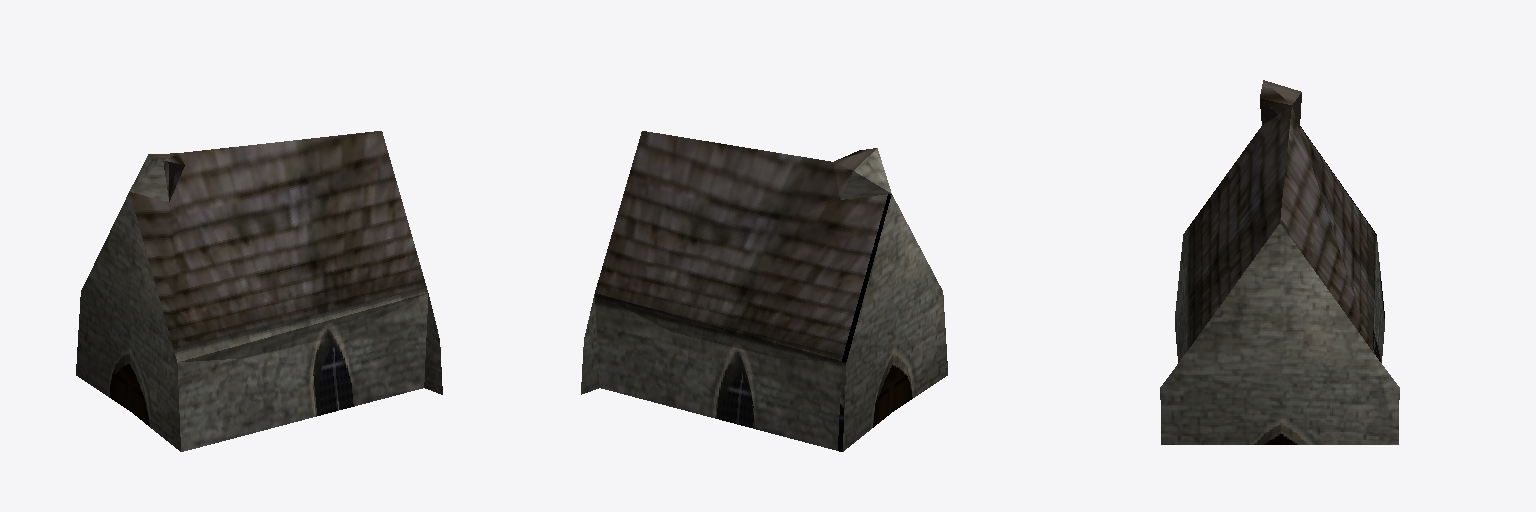
The picture shows the model from 3 angles: view 1: azimuth 30°, elevation 25°; view 2: azimuth 150°, elevation 25°; view 3: azimuth 270°, elevation 25°; orthographic projection.
Parts seen in each view (by area): view 1: Mesh.003_chapel.006; view 2: Mesh.003_chapel.006; view 3: Mesh.003_chapel.006.
Part boxes in pixels (x1,y1,x2,y2): Mesh.003_chapel.006: (76, 131, 442, 451); Mesh.003_chapel.006: (581, 131, 947, 451); Mesh.003_chapel.006: (1160, 80, 1399, 444).
Size of the model in its own units: 8.16 by 7.73 by 6.62.
1 materials, 1 textured.